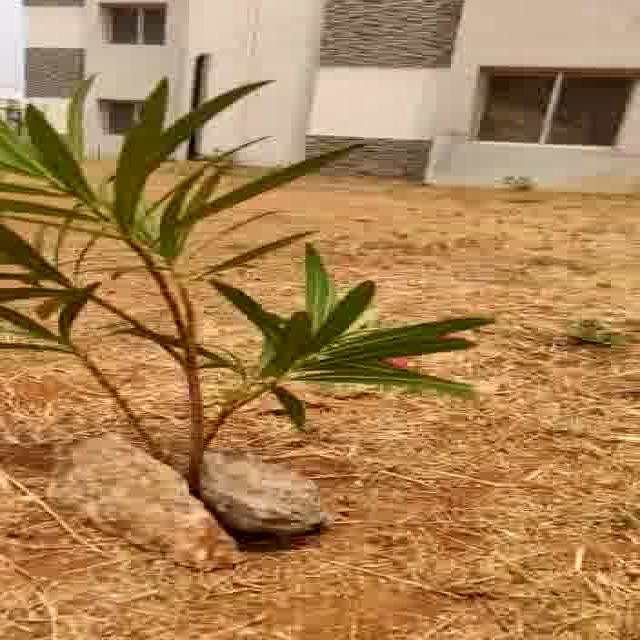Oleander: (0, 79, 445, 406)
